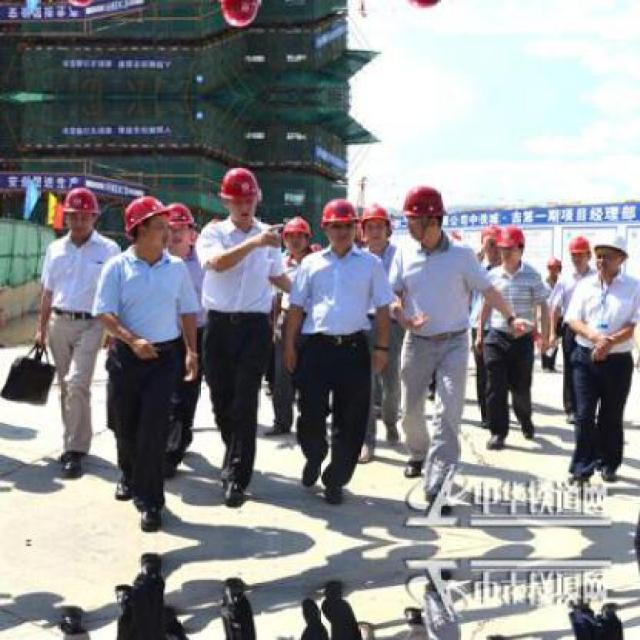helmet: (398, 180, 448, 244), (124, 194, 171, 252), (217, 164, 263, 220), (317, 194, 357, 252), (63, 184, 100, 237), (593, 229, 629, 278), (164, 200, 196, 252), (217, 0, 265, 31), (361, 200, 390, 248), (500, 221, 528, 268), (282, 214, 312, 256), (480, 223, 502, 266), (567, 230, 587, 274), (398, 0, 449, 15), (63, 0, 102, 11)
